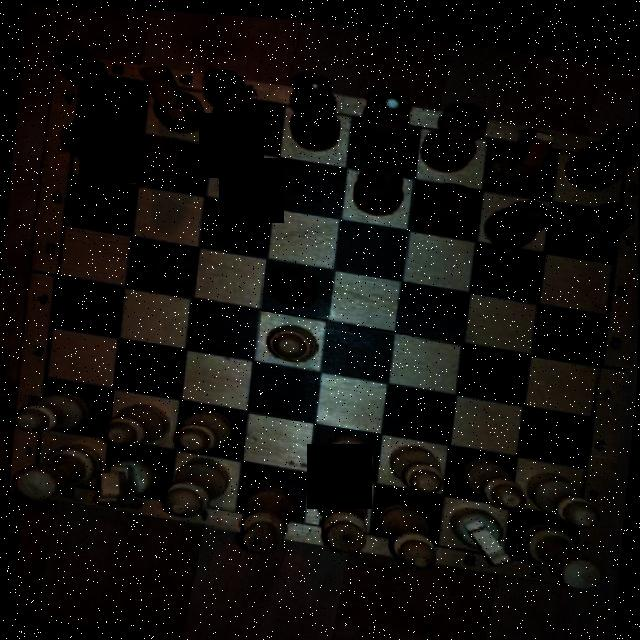chess-table-corners: (534, 525, 606, 584), (48, 45, 118, 99), (6, 452, 70, 500), (592, 124, 640, 180)
